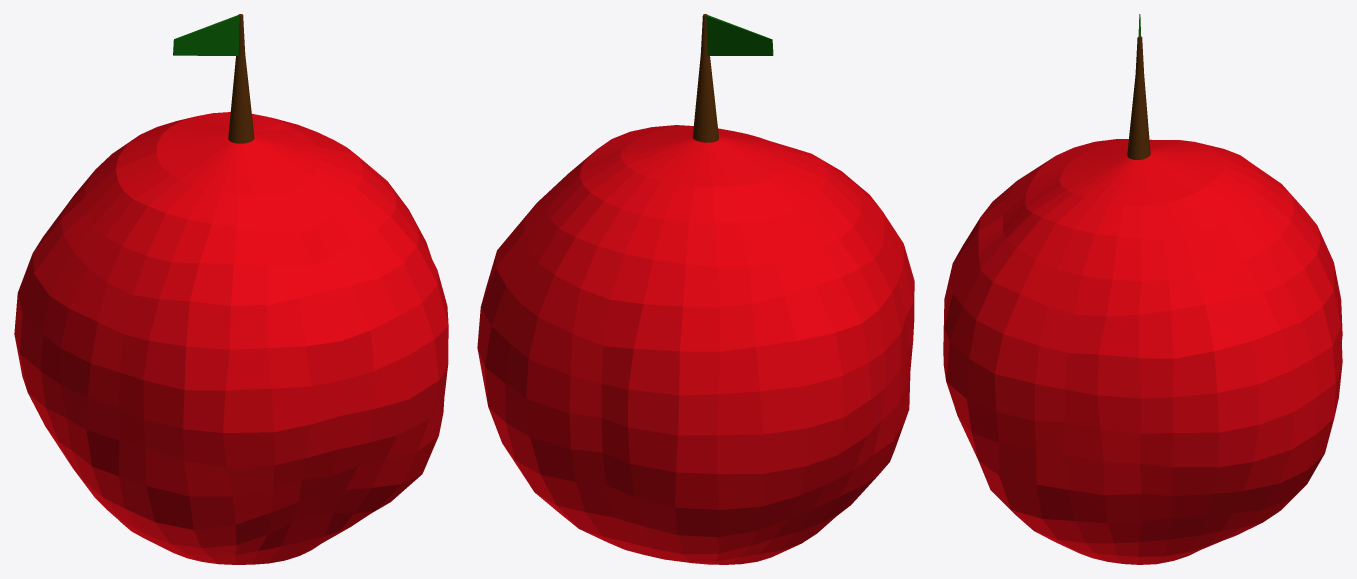
File: apple.fbx
3 views of the same model, side by side, from view 1: azimuth 30°, elevation 25°; view 2: azimuth 150°, elevation 25°; view 3: azimuth 270°, elevation 25° (orthographic). The views are drawn at different scales.
Parts seen in each view (by area): view 1: 球; view 2: 球; view 3: 球.
Boxes of the visible parts, <box> form: 球: <box>14,14,448,564</box>; 球: <box>477,14,914,564</box>; 球: <box>943,14,1342,564</box>.
Size of the model in its own units: 4.87 by 6.77 by 4.82.
